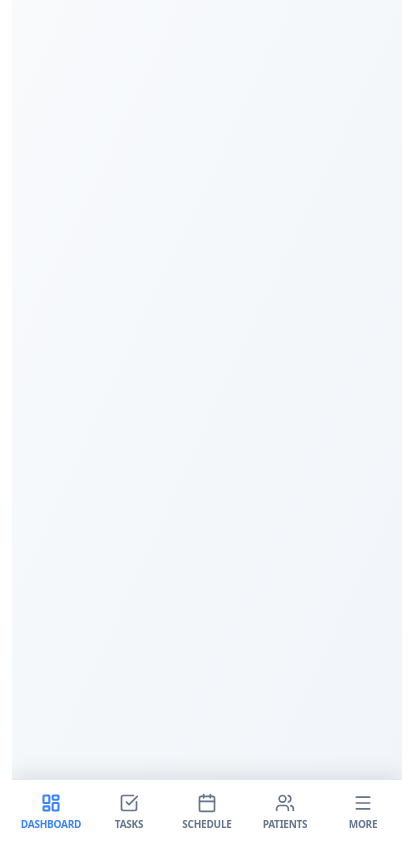
Test: CareConnectNavigation › Mobile Interactions › opens the mobile slide-over menu when "More" is clicked
What coordinates should you click on to do the following:
click the button "More"
I would click on:
 (363, 812)
Its box is x1=324 y1=780 x2=402 y2=843.
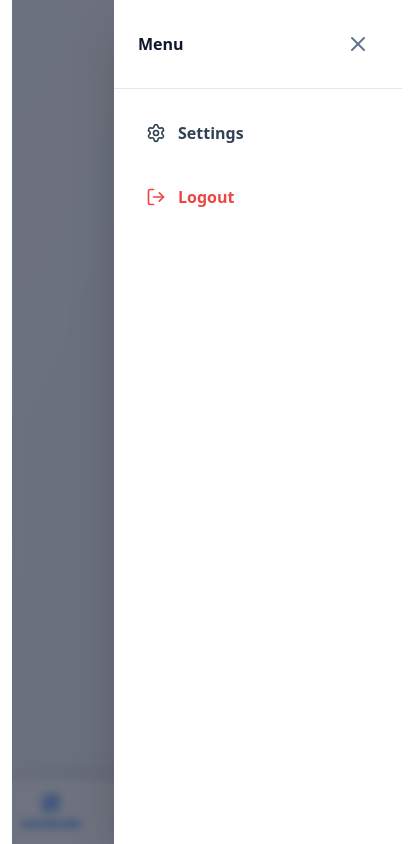
expect the heading "Menu" is shown: met, box x1=138 y1=32 x2=184 y2=56
